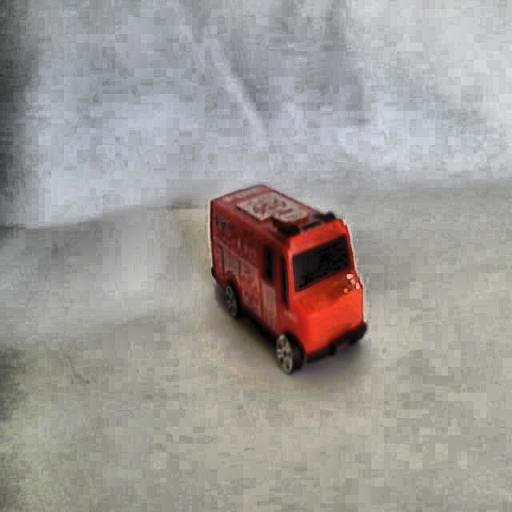fire_truck: (204, 176, 371, 379), (215, 208, 257, 277)
